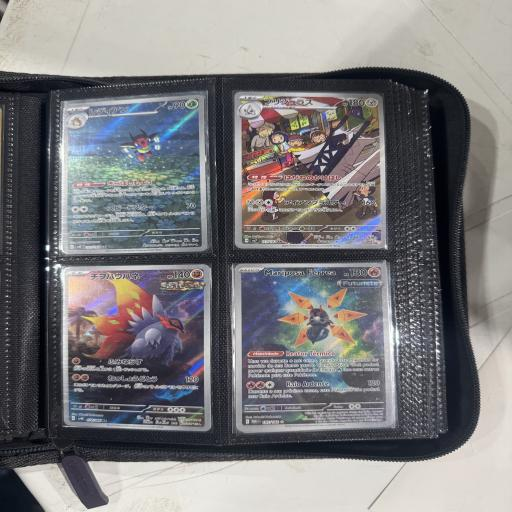card: (232, 262, 394, 433), (59, 265, 213, 432), (234, 91, 390, 250), (59, 95, 209, 253)
